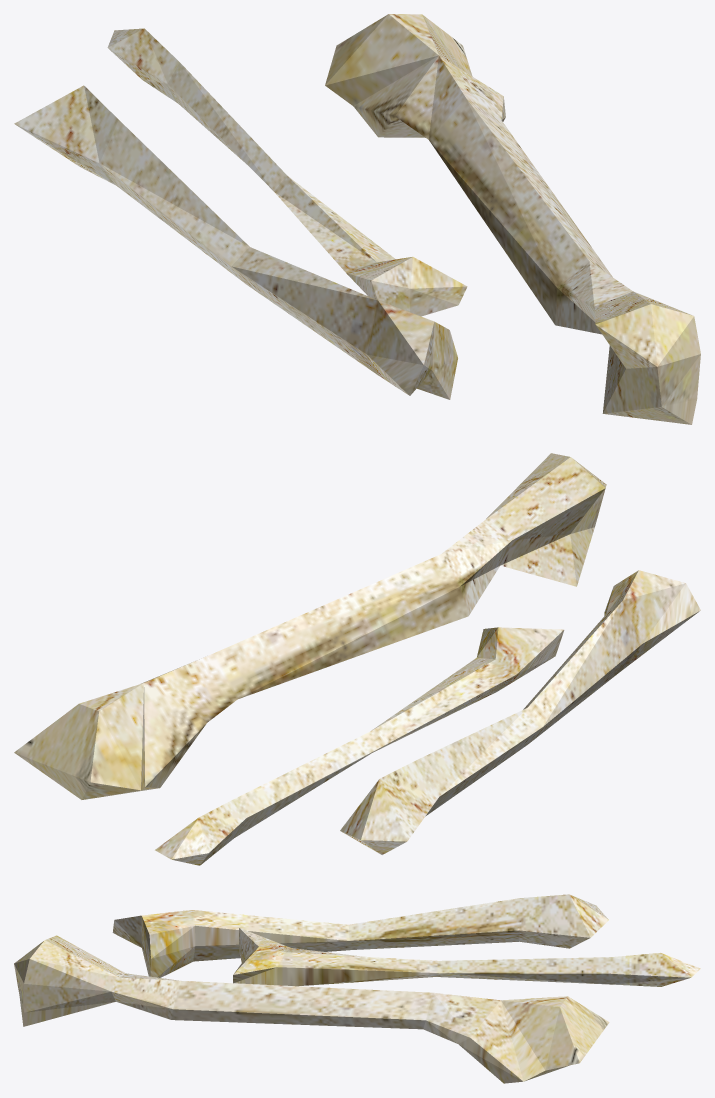
File: poi_tato_skel_krayt_arm_s02_l0.fbx
3 views of the same model, one above another, from view 1: azimuth 30°, elevation 25°; view 2: azimuth 150°, elevation 25°; view 3: azimuth 270°, elevation 25° (orthographic). The views are drawn at different scales.
Parts seen in each view (by area): view 1: mesh_node; view 2: mesh_node; view 3: mesh_node.
Boxes of the visible parts, x1,y1,x2,y2 form: mesh_node: (14,14,700,424); mesh_node: (14,453,700,865); mesh_node: (14,894,700,1083).
Bounding box in the file's own units: 2.09 × 0.5731 × 4.2.
Materials: 1 (1 with a texture image).
